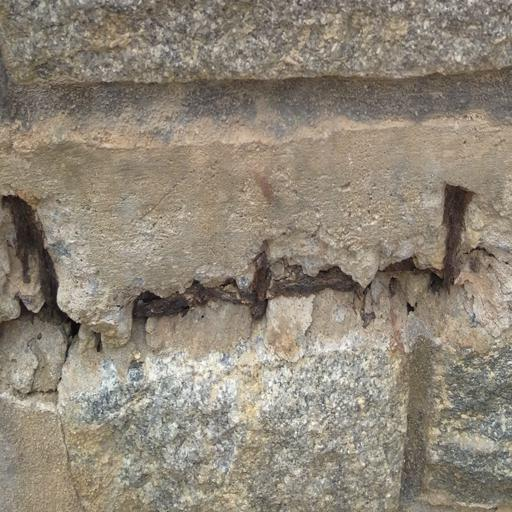spalling: (0, 143, 512, 405)
